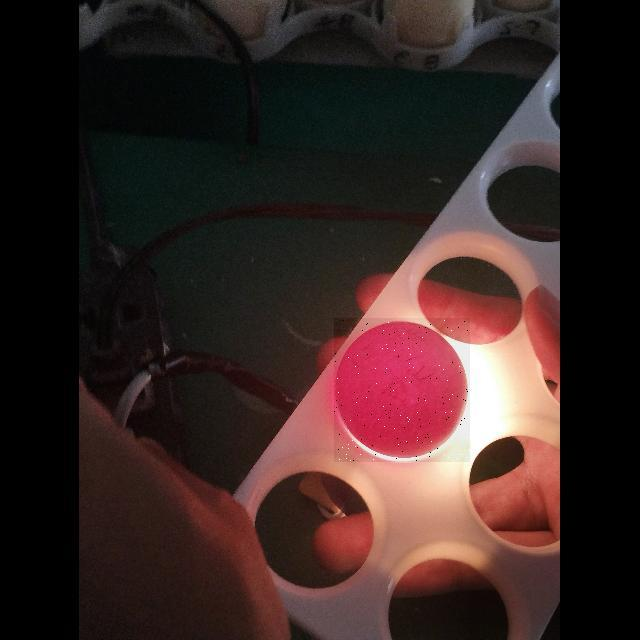Infertile: (334, 318, 470, 462)
